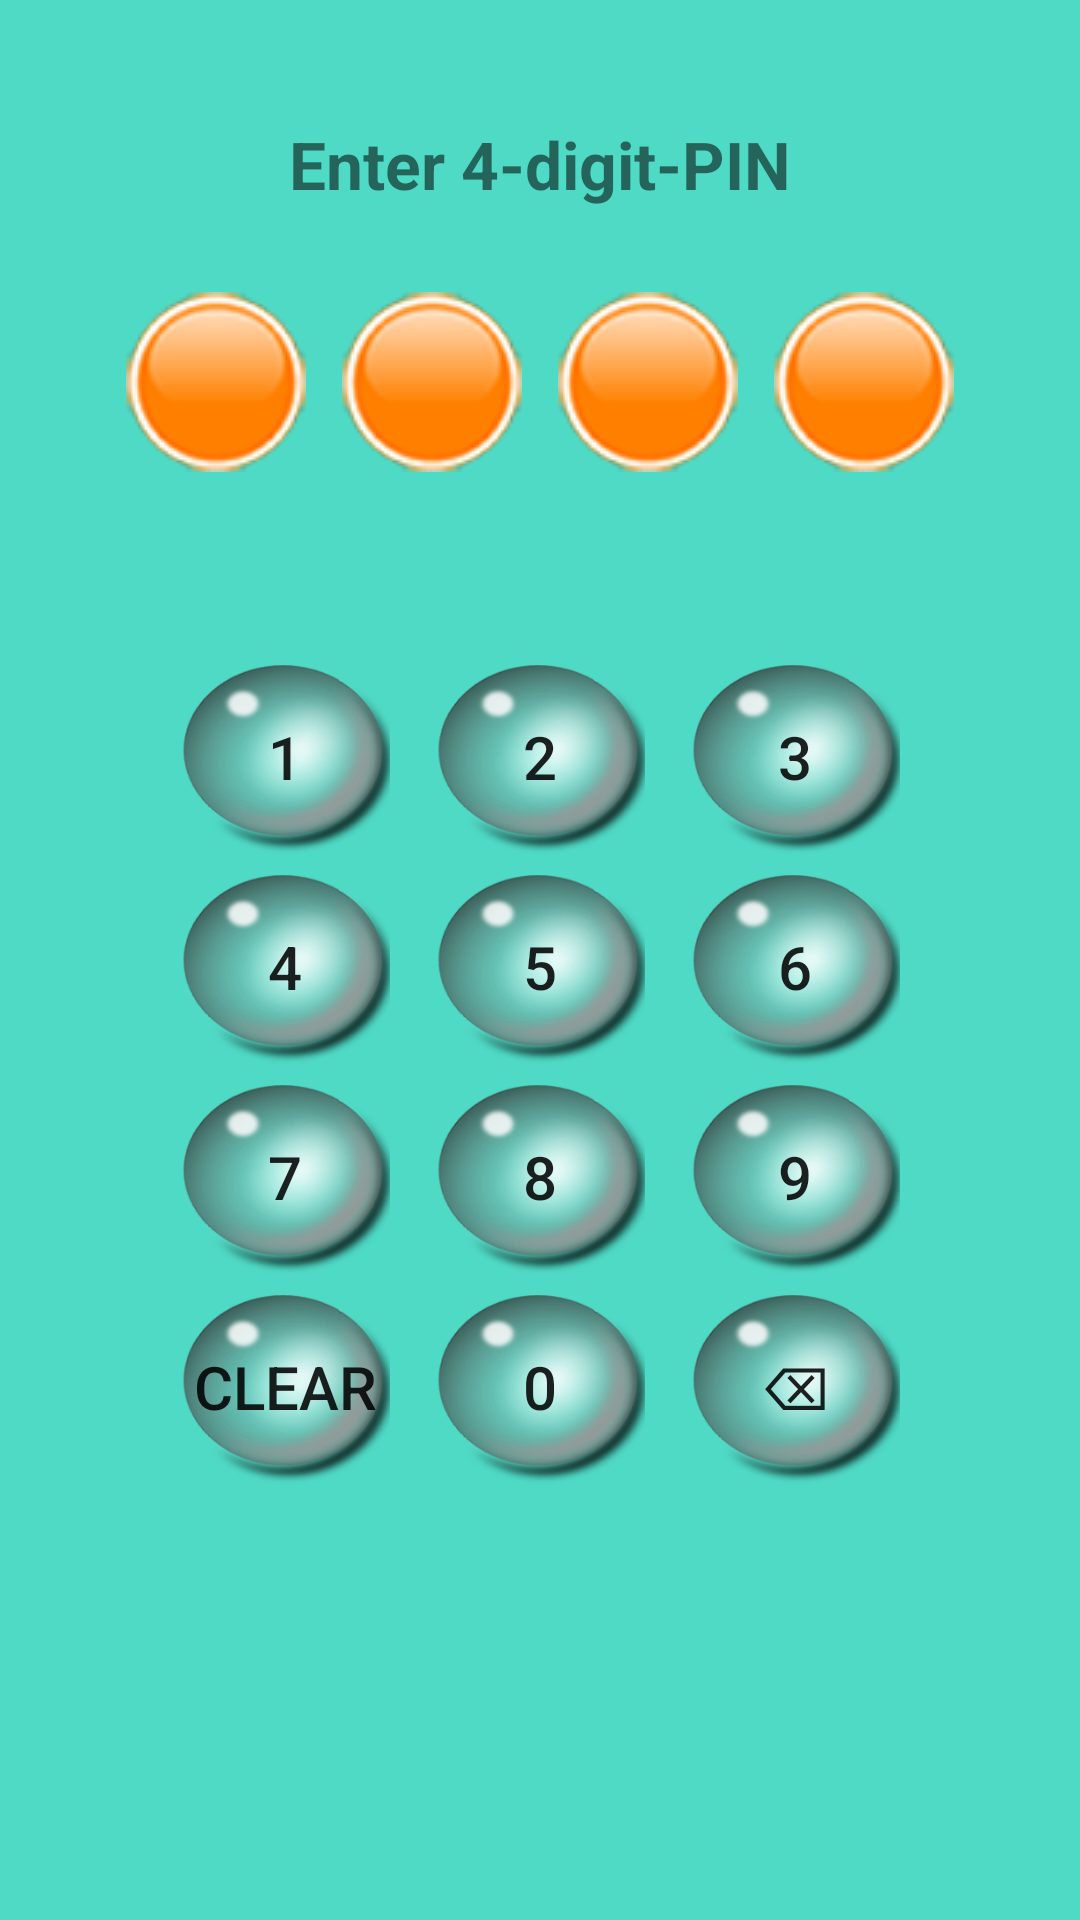

Icons on this 1080px×1920px Android screen, each with its box as {"left": x1, "top": y1, "right": x2, "bottom": y2}:
circle: {"left": 126, "top": 292, "right": 306, "bottom": 472}, {"left": 342, "top": 292, "right": 522, "bottom": 472}, {"left": 558, "top": 292, "right": 738, "bottom": 472}, {"left": 774, "top": 292, "right": 954, "bottom": 472}
